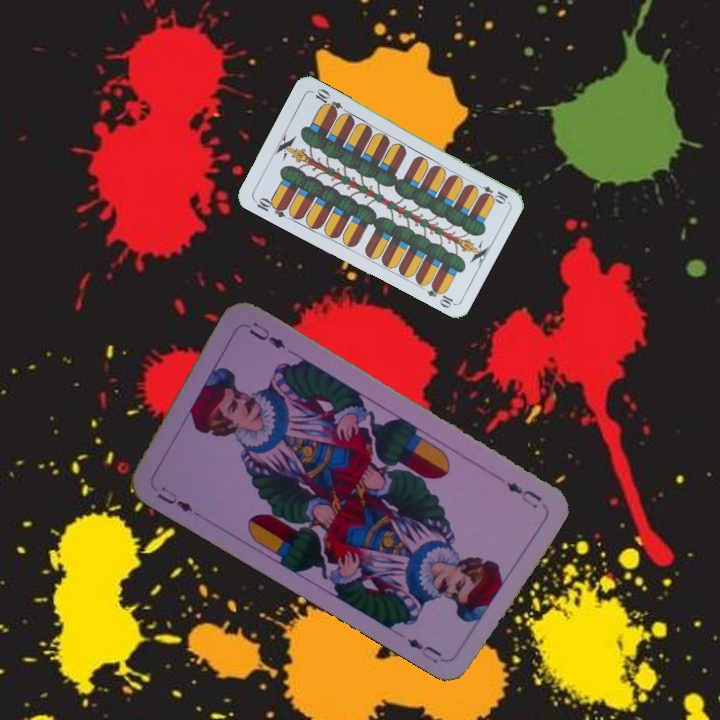E10: (250, 193, 290, 220), (471, 180, 510, 205)
EU: (153, 481, 196, 515), (502, 477, 545, 511)
